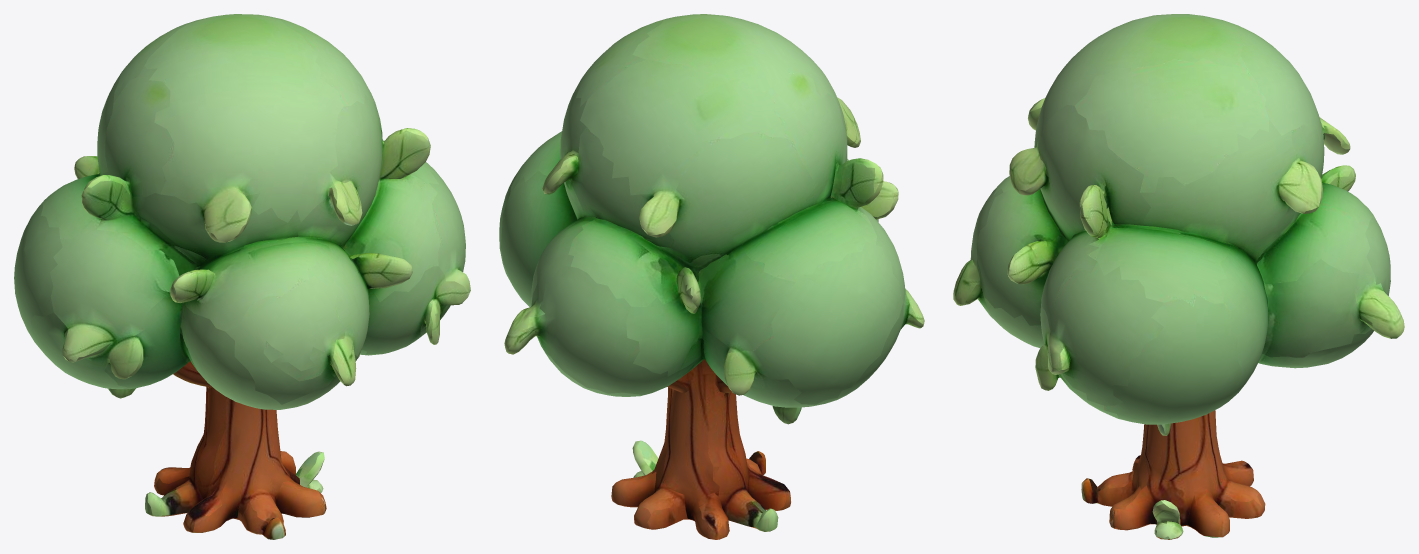
Rendered from tree.glb.
3 views of the same model, side by side, from view 1: azimuth 30°, elevation 25°; view 2: azimuth 150°, elevation 25°; view 3: azimuth 270°, elevation 25° (orthographic).
Visible parts, largest first — view 1: tree_s15; view 2: tree_s15; view 3: tree_s15.
Part boxes in pixels (x1,y1,x2,y2): tree_s15: (14,14,470,539); tree_s15: (499,14,924,539); tree_s15: (953,14,1404,539).
Size of the model in its own units: 0.8775 by 1 by 0.8617.
Materials: 1 (1 with a texture image).
